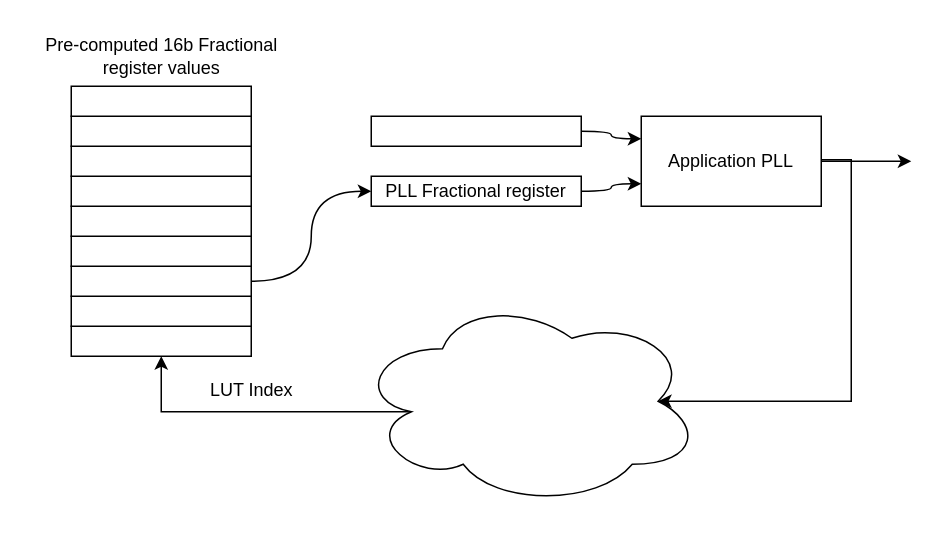
Image size: 950x533. Some labels were removed from this diagram. The shapes that lost their labels are listed below. From the top down, each one's centre as x and y in pixels, then its label:
(475,130): PLL Integer register
(528,400): Controller
